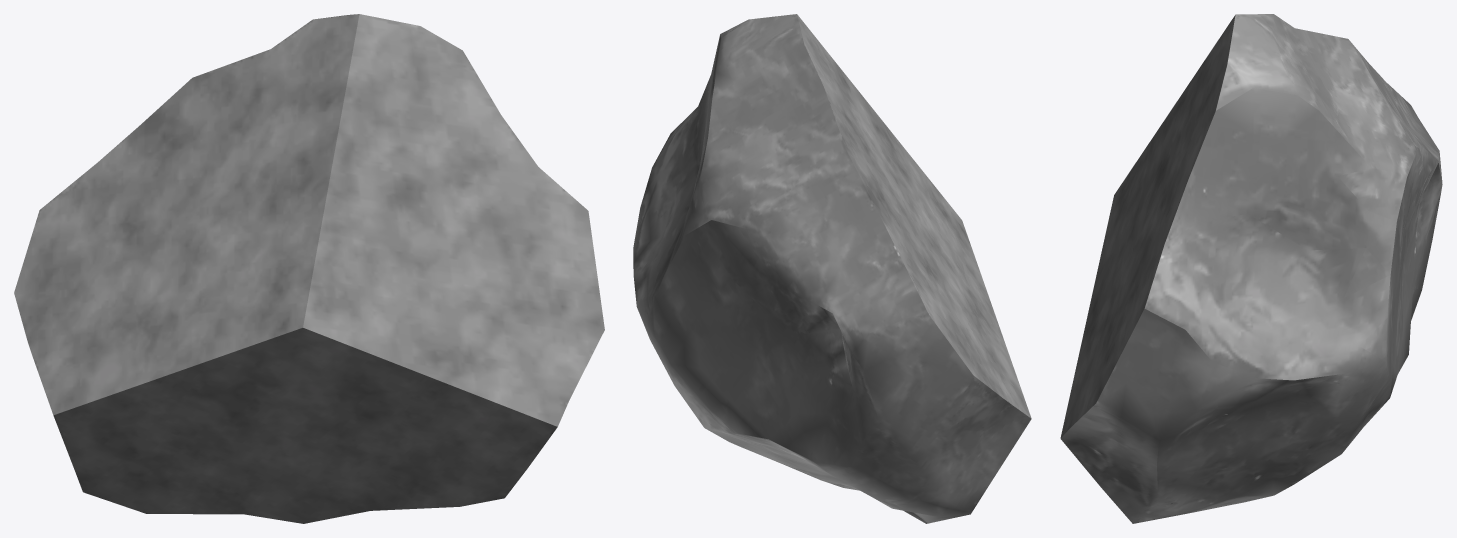
The model's file is frag_02.glb.
3 renders of one model, left to right at view 1: azimuth 30°, elevation 25°; view 2: azimuth 150°, elevation 25°; view 3: azimuth 270°, elevation 25°, orthographic. The views are drawn at different scales.
Parts seen in each view (by area): view 1: frag_02; view 2: frag_02; view 3: frag_02.
Part boxes in pixels (x1,y1,x2,y2): frag_02: (14, 14, 604, 523); frag_02: (633, 14, 1031, 523); frag_02: (1060, 14, 1442, 523).
Size of the model in its own units: 1.69 by 1.74 by 1.22.
1 material, 1 textured.
